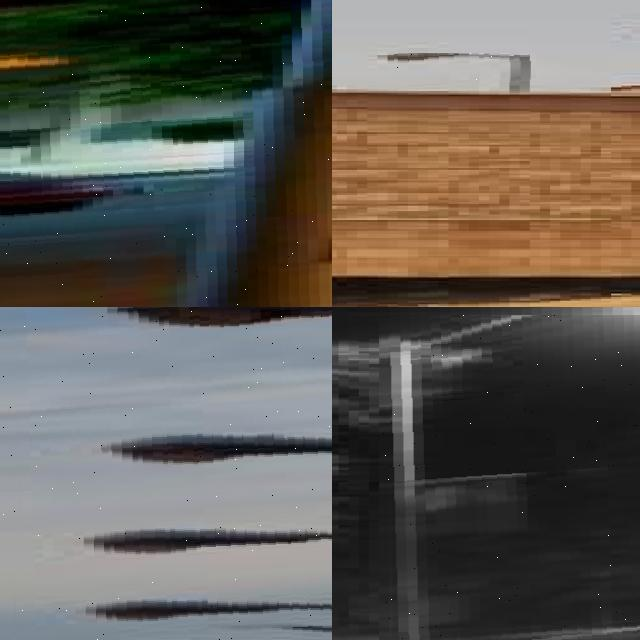street light: (0, 307, 332, 640), (0, 0, 332, 307), (379, 315, 640, 640), (89, 307, 332, 640), (89, 440, 332, 640), (69, 524, 332, 640), (69, 597, 332, 640), (386, 53, 536, 90)
